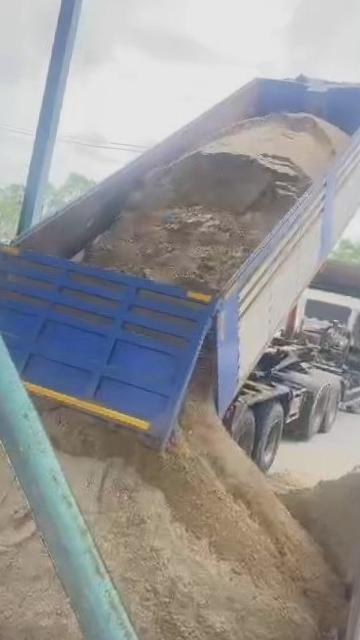sand: (42, 371, 345, 640), (83, 114, 348, 287), (0, 396, 92, 640), (281, 471, 360, 586)
